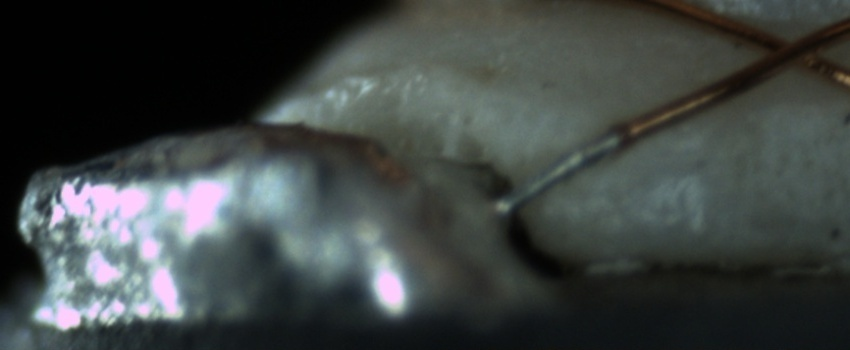CL: (742, 17, 843, 80)
DL: (601, 135, 726, 201)
TS: (497, 131, 623, 218)
